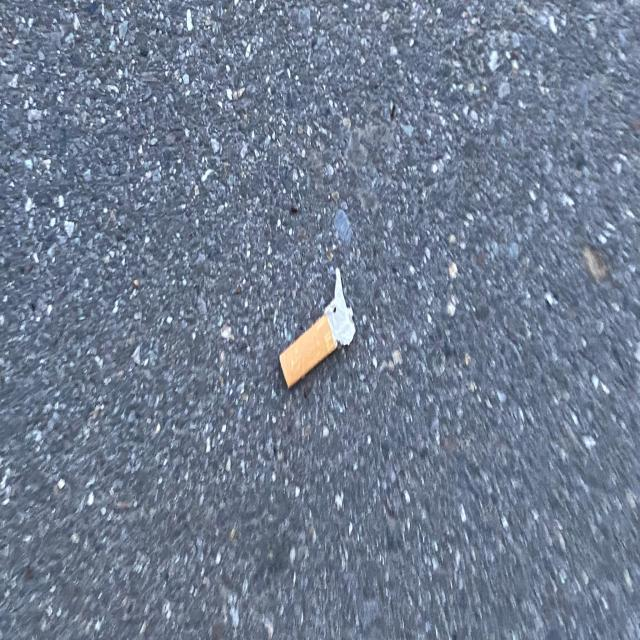other waste: (278, 266, 356, 390)
